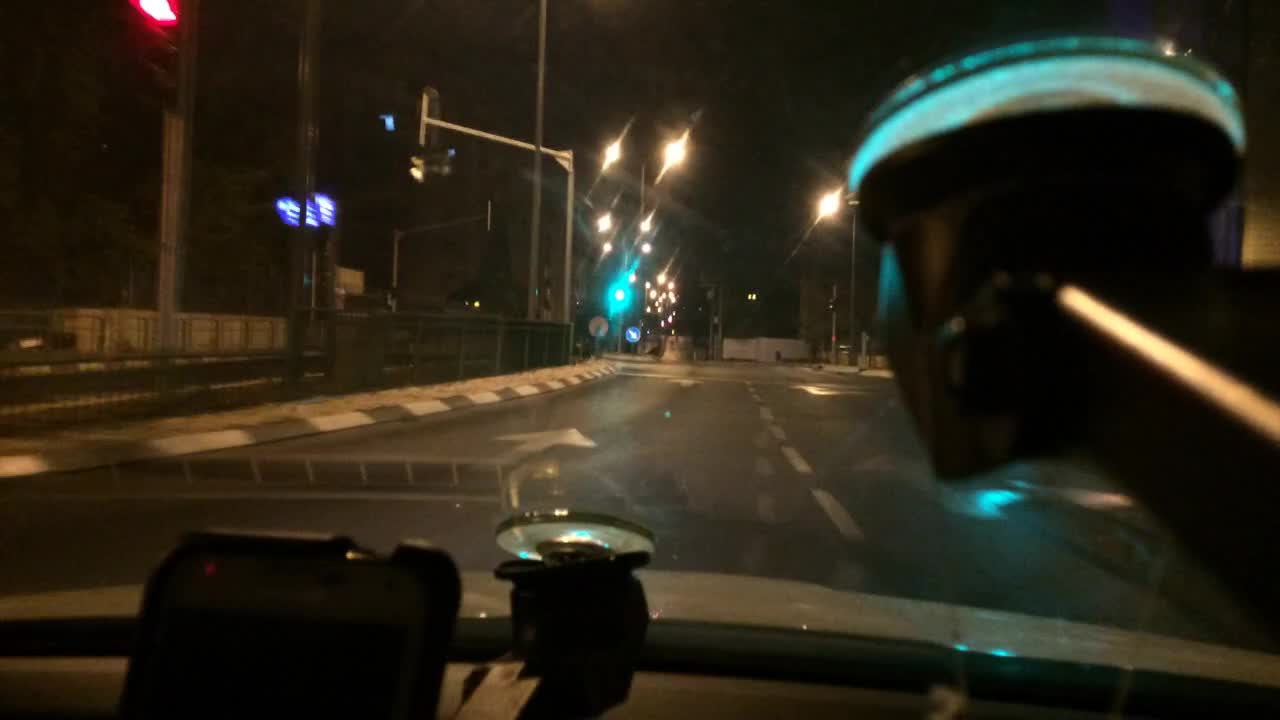traffic light: (132, 0, 180, 107), (608, 279, 629, 309)
traffic sign: (587, 314, 608, 339), (625, 323, 641, 345)
